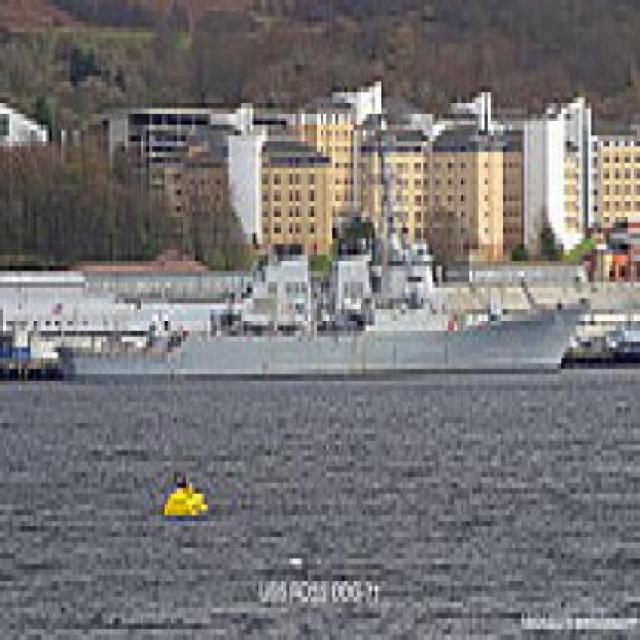warship2: (56, 218, 583, 387)
